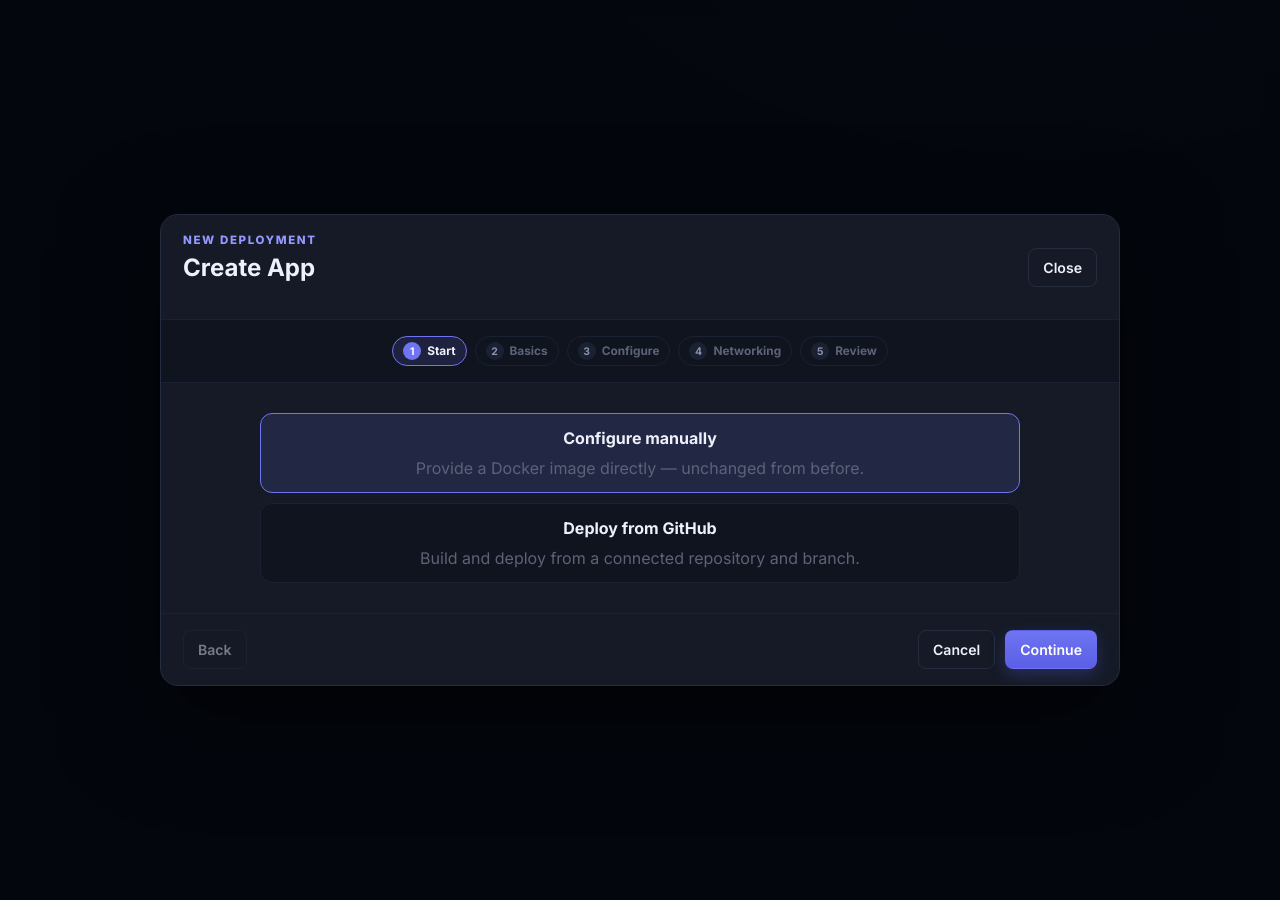
Test case: CreateAppWizard — common app dropdown › picking a common app fills in its Docker image
The image size is (1280, 900).
Click the button "Continue" at (1051, 650), box [1005,630,1097,670]
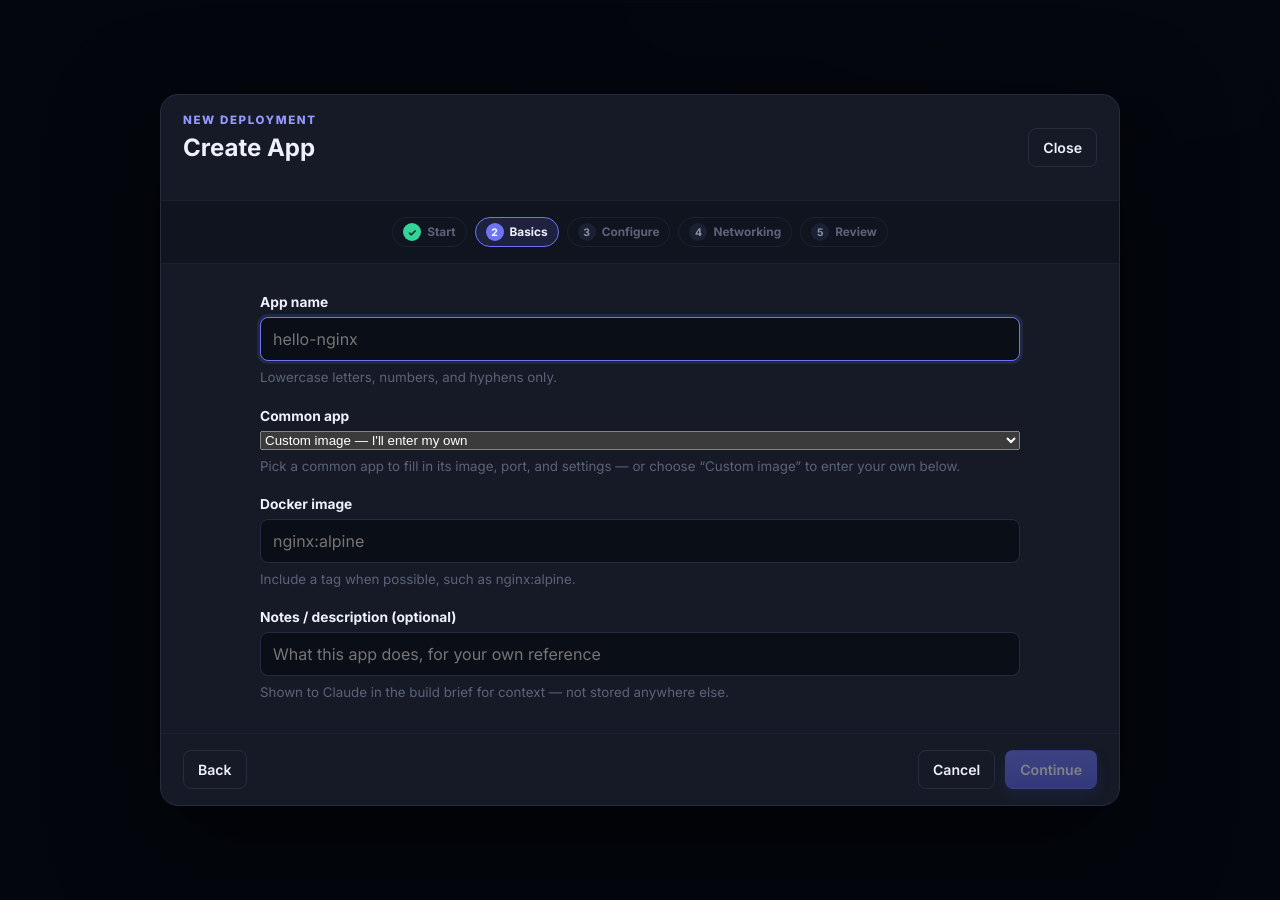
Check: the field labelled "Docker image" is empty, box [260,519,1020,563]
Select "Nginx" in the dropdown labelled "Common app" at (640, 440), box [260,431,1020,450]
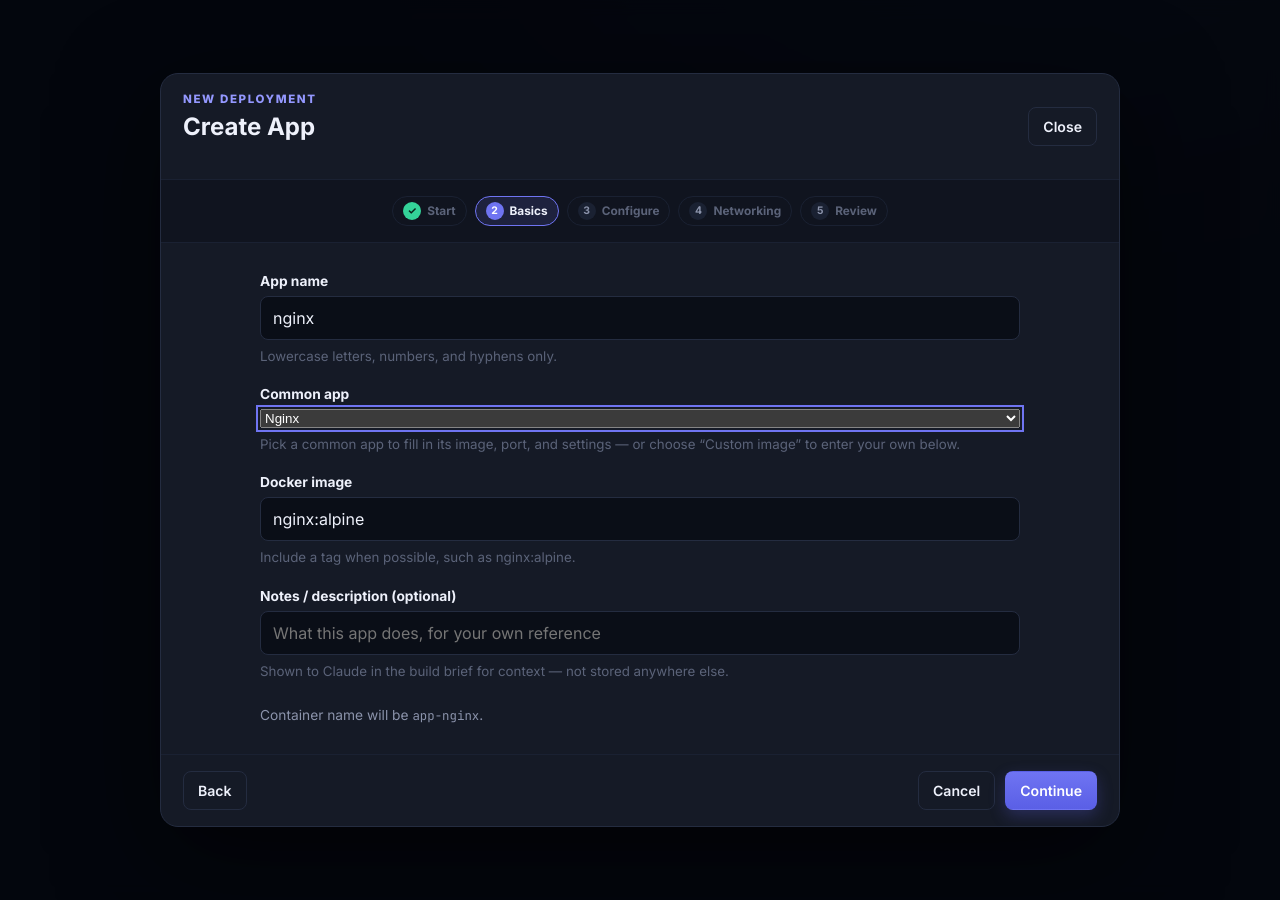
Check: the field labelled "Docker image" holds "nginx:alpine", box [260,498,1020,542]
